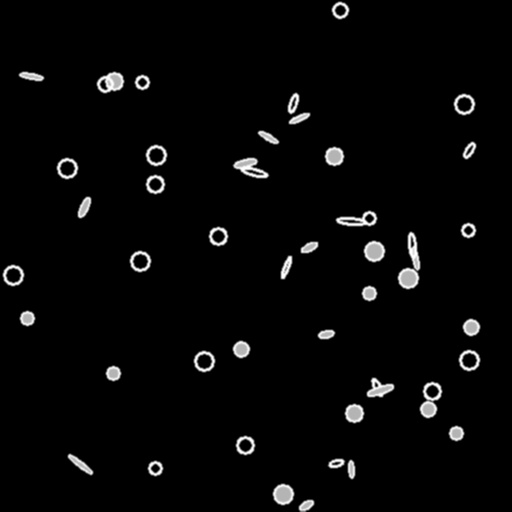pseudomonas: (67, 453, 93, 475), (366, 383, 394, 397), (241, 166, 267, 178), (288, 111, 310, 125), (336, 216, 366, 226), (370, 377, 384, 397), (77, 197, 91, 217), (258, 130, 278, 144), (280, 256, 292, 278), (462, 141, 476, 159), (287, 93, 299, 113), (298, 498, 314, 512), (410, 247, 420, 269), (234, 158, 256, 168), (408, 232, 416, 258), (301, 241, 317, 253), (20, 72, 42, 80), (318, 329, 334, 339), (328, 458, 344, 468), (348, 460, 354, 478)
synechocystis: (58, 159, 76, 177), (460, 351, 478, 369), (365, 242, 383, 260), (147, 146, 165, 164), (274, 485, 292, 503), (455, 95, 473, 113), (131, 252, 149, 270), (195, 352, 213, 370), (399, 269, 417, 287), (4, 266, 22, 284), (424, 383, 440, 399), (210, 228, 226, 244), (106, 73, 122, 89), (147, 176, 163, 192), (346, 405, 362, 421), (237, 437, 253, 453), (326, 148, 342, 164), (234, 342, 248, 356), (464, 320, 478, 334), (333, 3, 347, 17), (98, 77, 112, 91), (421, 402, 435, 416), (21, 312, 33, 324), (136, 76, 148, 88), (363, 287, 375, 299), (107, 367, 119, 379), (450, 427, 462, 439), (363, 212, 375, 224), (149, 462, 161, 474), (462, 224, 474, 236)
